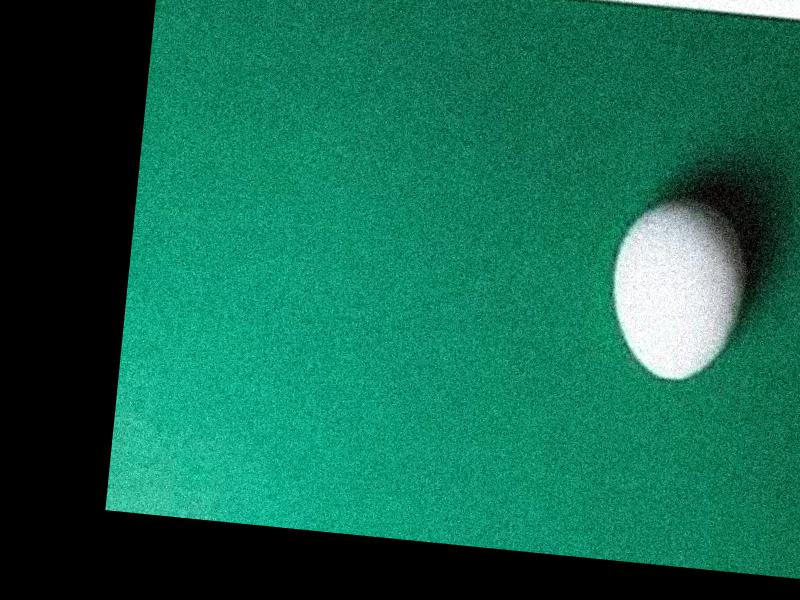Eggs: (599, 191, 748, 384)
